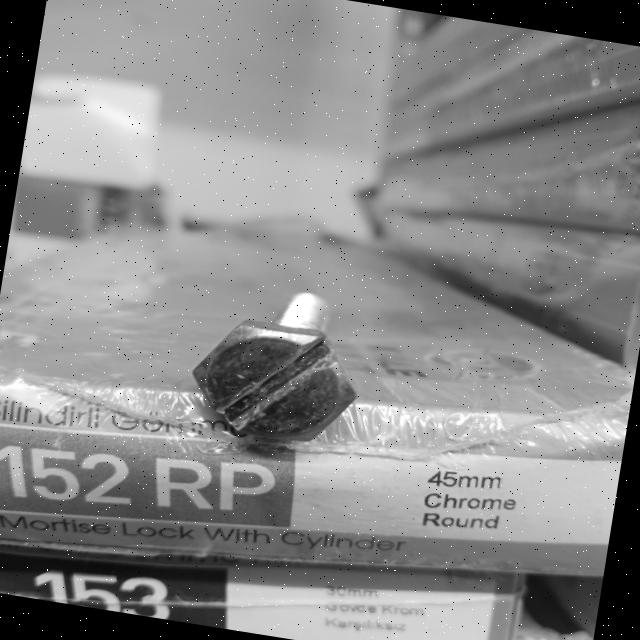Slotted: (171, 304, 384, 462)
